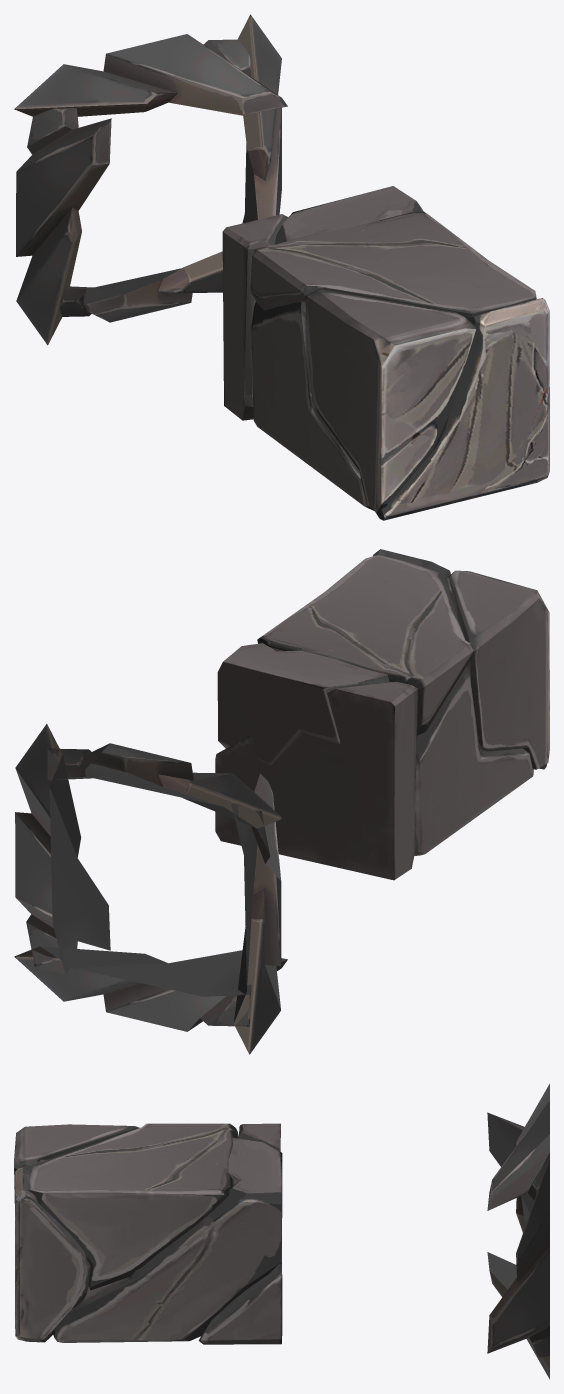
File: trap_043_dupilr.glb
3 views of the same model, one above another, from view 1: azimuth 30°, elevation 25°; view 2: azimuth 150°, elevation 25°; view 3: azimuth 270°, elevation 25° (orthographic). The views are drawn at different scales.
Parts seen in each view (by area): view 1: L_dizuo, L_zhuzi_2, L_zhuzi_4, L_zhuzi_3, polySurface4, L_zhuzi_1, polySurface3; view 2: L_dizuo, L_zhuzi_1, polySurface4, L_zhuzi_3, L_zhuzi_2, polySurface3, L_zhuzi_4; view 3: L_zhuzi_3, polySurface4, L_dizuo, L_zhuzi_4, polySurface3, L_zhuzi_1, L_zhuzi_2.
Part boxes in pixels (box(x1,y1,x2,y2)): L_dizuo: box(14, 14, 287, 345); L_zhuzi_2: box(305, 289, 476, 513); L_zhuzi_4: box(375, 298, 549, 520); L_zhuzi_3: box(250, 211, 536, 317); polySurface4: box(251, 186, 423, 454); L_zhuzi_1: box(222, 214, 288, 420); polySurface3: box(295, 413, 374, 511); L_dizuo: box(14, 724, 287, 1054); L_zhuzi_1: box(215, 681, 417, 880); polySurface4: box(217, 643, 483, 855); L_zhuzi_3: box(257, 554, 473, 735); L_zhuzi_2: box(447, 570, 549, 769); polySurface3: box(464, 748, 533, 825); L_zhuzi_4: box(373, 549, 547, 769); L_zhuzi_3: box(28, 1123, 238, 1290); polySurface4: box(128, 1137, 282, 1341); L_dizuo: box(487, 1083, 549, 1379); L_zhuzi_4: box(15, 1164, 90, 1342); polySurface3: box(53, 1277, 184, 1342); L_zhuzi_1: box(198, 1123, 282, 1344); L_zhuzi_2: box(14, 1124, 139, 1207).
Bounding box in the file's own units: 0.9902 × 0.9902 × 2.03.
Materials: 1 (1 with a texture image).
